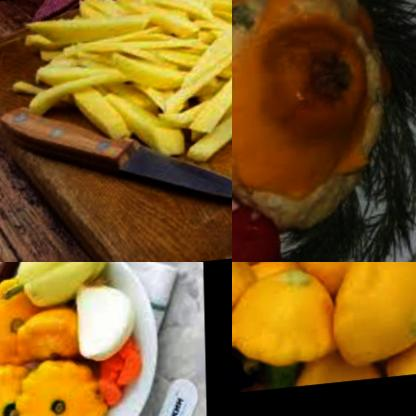bell pepper: (9, 262, 110, 318)
carrot: (84, 341, 137, 416)
onion: (71, 280, 137, 374)
potato: (6, 0, 232, 186)
squash-patisson: (232, 0, 401, 244), (232, 262, 416, 408), (4, 348, 110, 416), (6, 307, 79, 379), (0, 276, 38, 382), (0, 360, 36, 416)
tomato: (232, 172, 286, 262)
